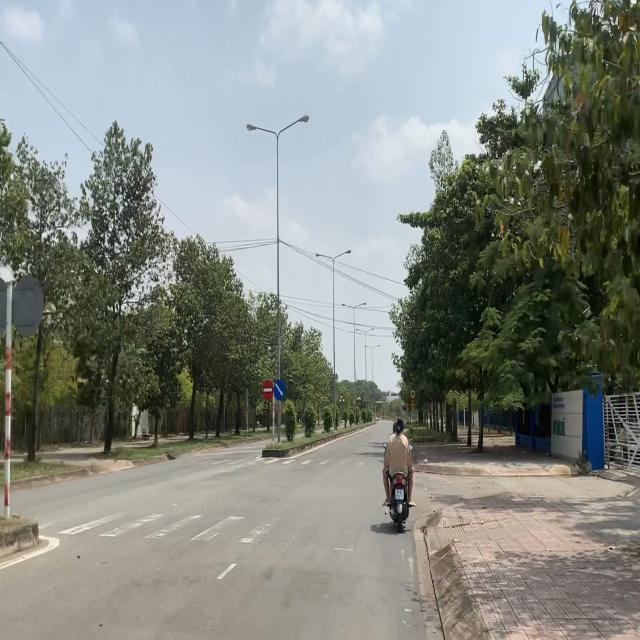Cam nguoc chieu: (262, 380, 273, 401)
Hieu lenh: (273, 379, 286, 400)
